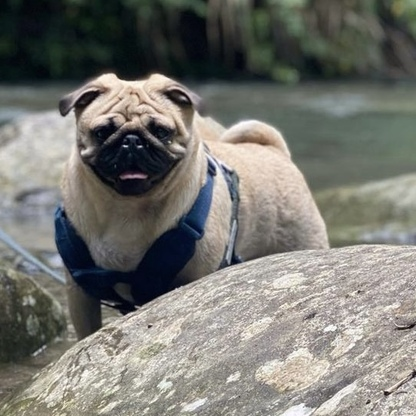Pug: (49, 61, 335, 343)
